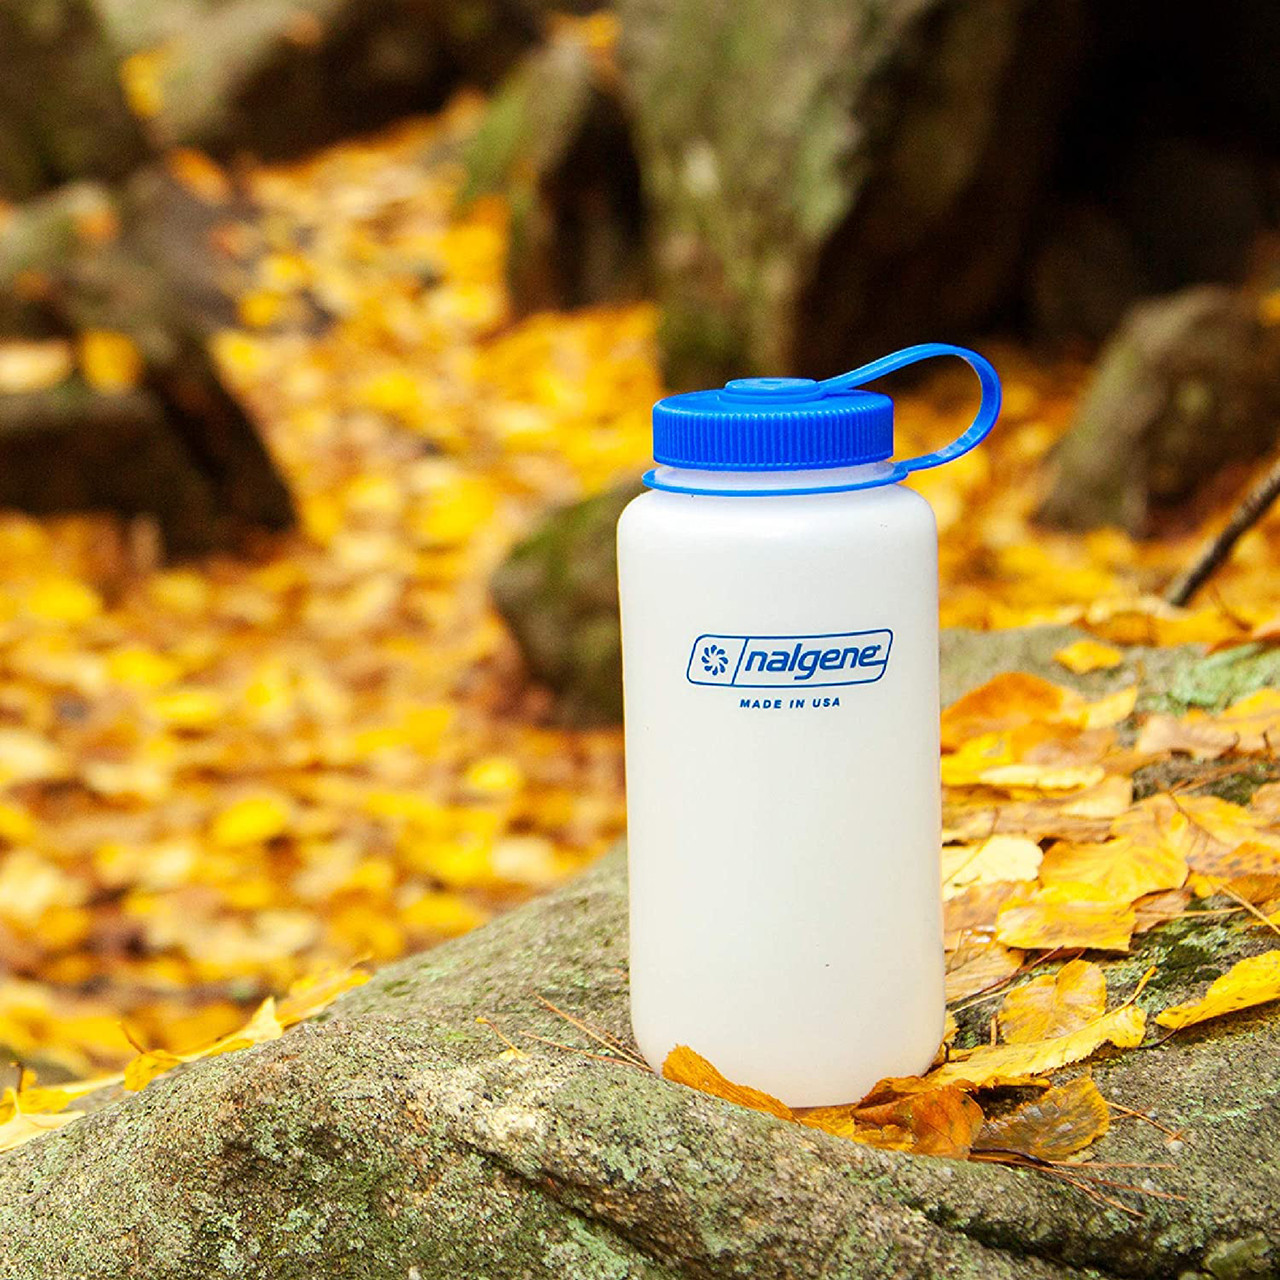bottle: (610, 341, 1005, 1114)
